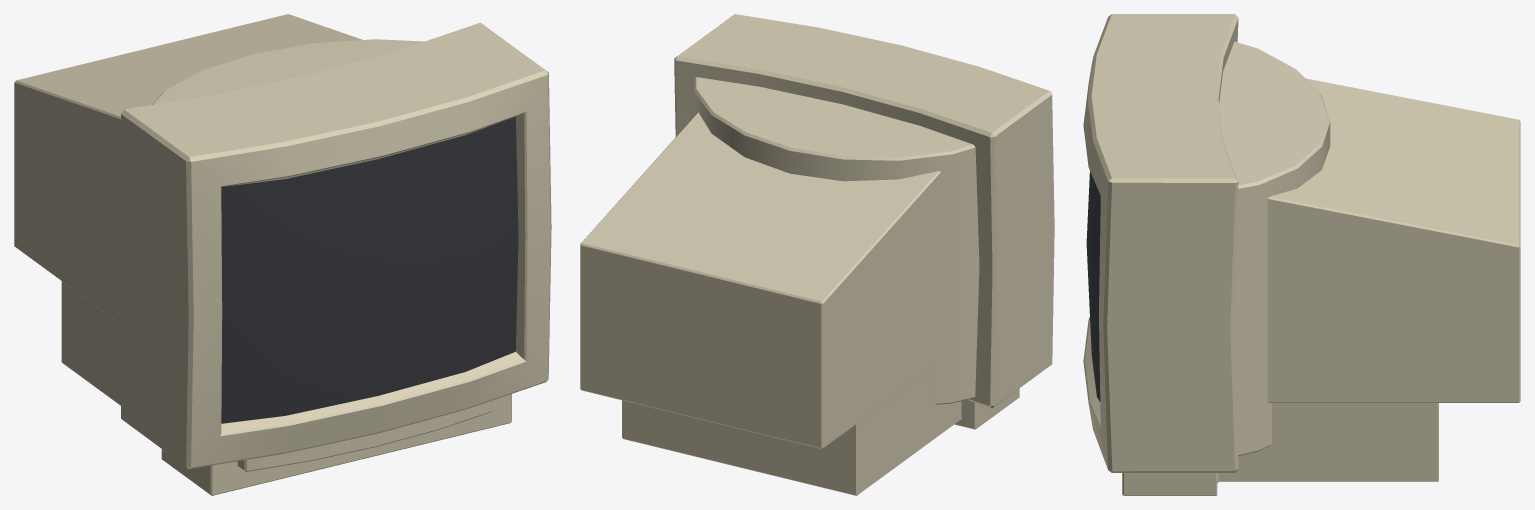
Rendered from Monitor.fbx.
3 views of the same model, side by side, from view 1: azimuth 30°, elevation 25°; view 2: azimuth 150°, elevation 25°; view 3: azimuth 270°, elevation 25° (orthographic). The views are drawn at different scales.
Parts seen in each view (by area): view 1: Monitor, Screen; view 2: Monitor; view 3: Monitor, Screen.
Boxes of the visible parts, left/top/right/bottom form: Monitor: left=14, top=14, right=551, bottom=495; Screen: left=221, top=116, right=518, bottom=423; Monitor: left=580, top=14, right=1054, bottom=495; Monitor: left=1083, top=14, right=1520, bottom=495; Screen: left=1086, top=171, right=1100, bottom=401.
Bounding box in the file's own units: 2.3 × 2.12 × 2.54.
